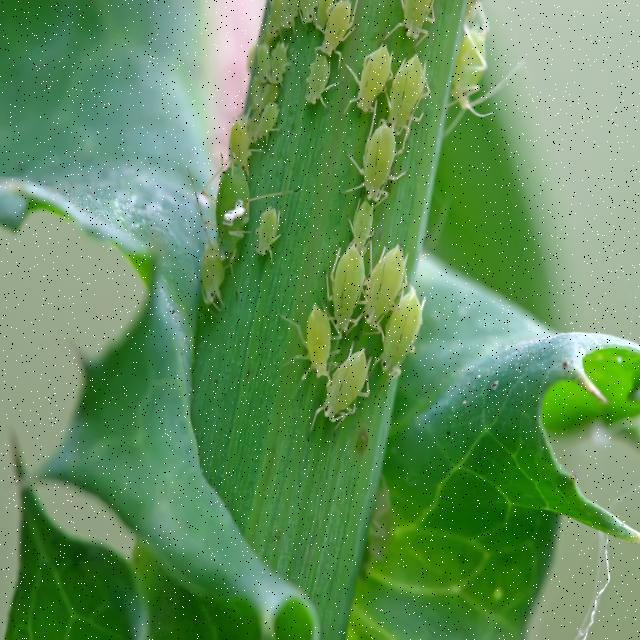Aphids: (195, 142, 270, 255), (442, 4, 504, 121), (345, 117, 407, 212), (362, 233, 419, 336), (213, 99, 271, 189), (322, 352, 383, 432), (287, 295, 338, 387), (349, 27, 396, 121), (379, 295, 423, 385), (386, 43, 429, 135), (182, 243, 237, 307), (326, 241, 369, 320), (297, 50, 337, 120), (342, 196, 383, 261), (247, 200, 285, 268), (253, 40, 293, 91), (253, 98, 291, 147)
